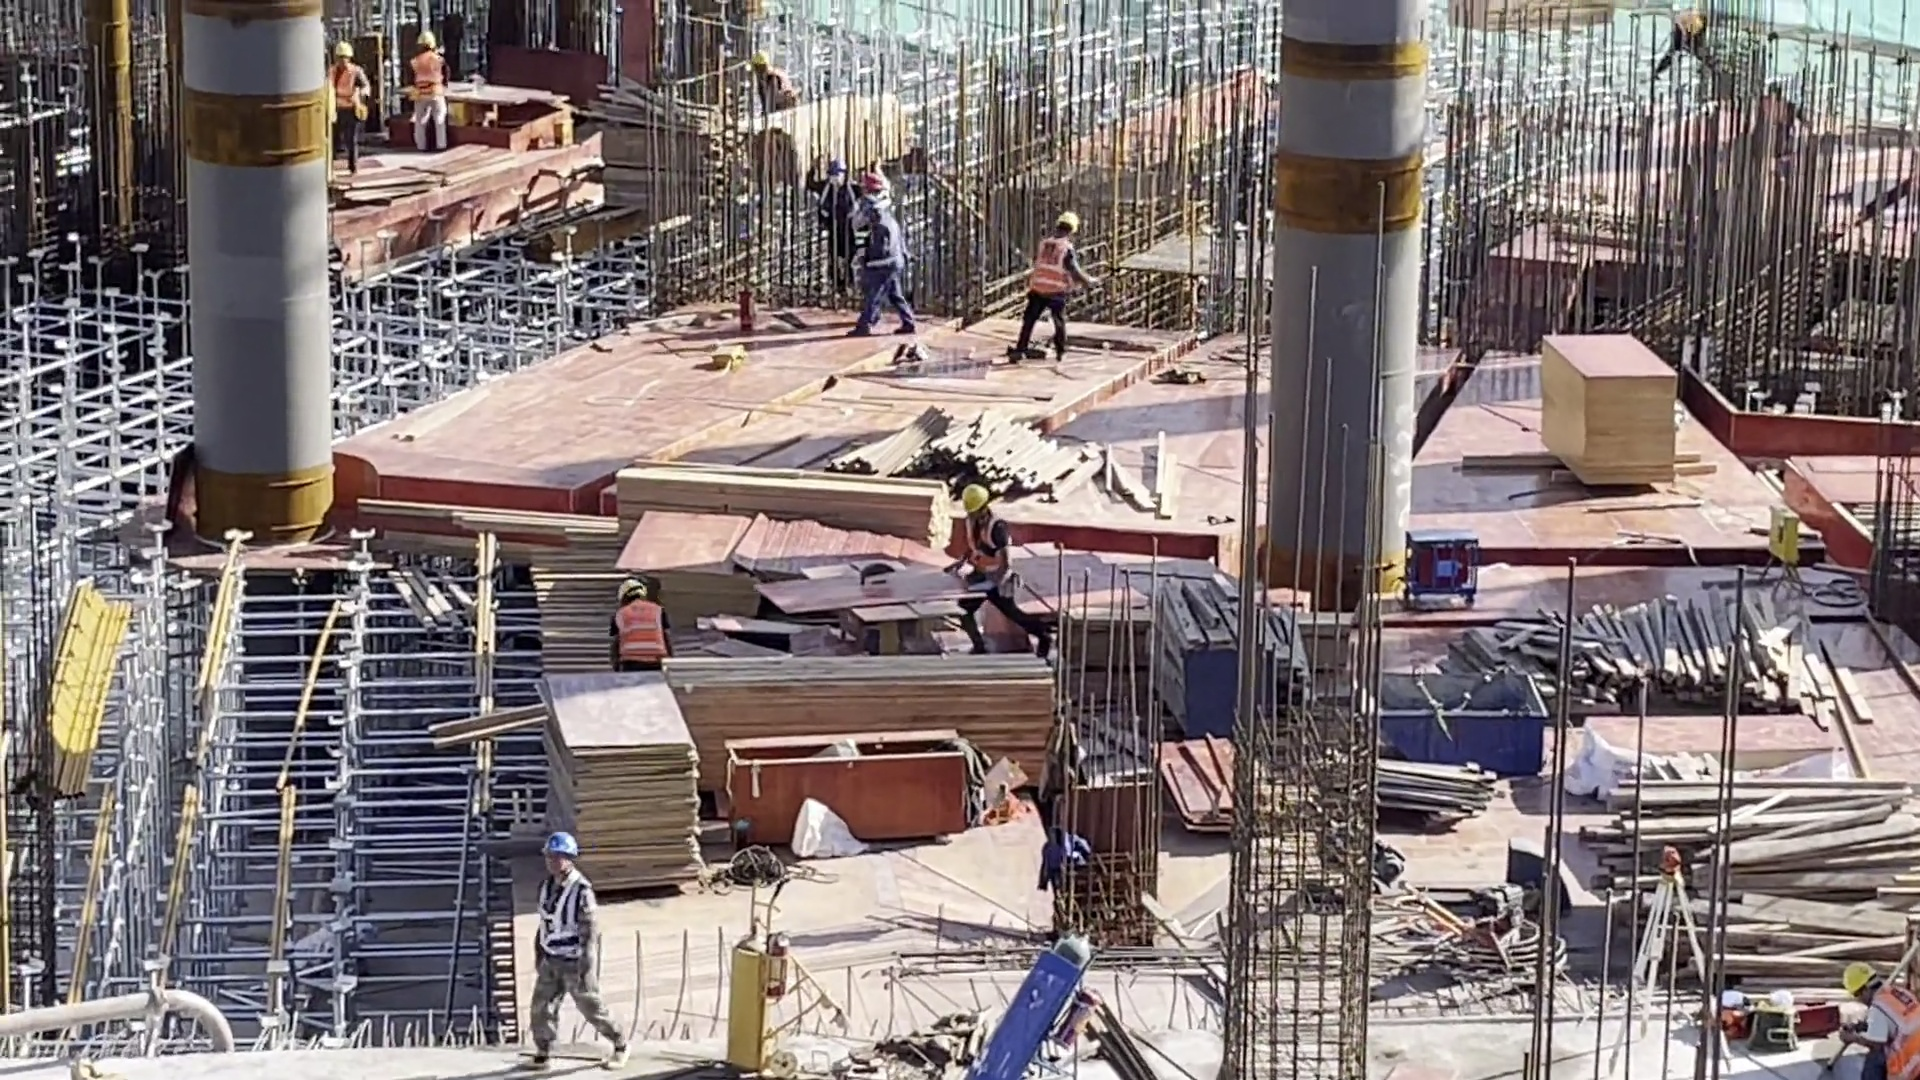board: (542, 672, 710, 891), (1540, 332, 1678, 487), (630, 511, 760, 631), (1156, 735, 1240, 840)
cutter: (801, 553, 980, 649), (444, 81, 575, 155)
ebox: (1760, 500, 1808, 604)
helmet: (1839, 959, 1876, 999), (958, 482, 990, 518), (538, 833, 579, 858), (614, 577, 649, 602), (861, 172, 886, 198), (412, 30, 439, 52), (328, 42, 357, 60), (824, 158, 846, 182)
hopper: (1375, 668, 1544, 778)
person: (528, 831, 631, 1068), (952, 482, 1056, 658), (1002, 208, 1099, 367), (849, 172, 916, 339), (1838, 959, 1920, 1080), (805, 150, 857, 299), (607, 575, 674, 673), (326, 41, 371, 175), (405, 32, 451, 153), (1657, 12, 1724, 75), (748, 49, 798, 120)
vest: (537, 870, 590, 964), (1874, 987, 1919, 1080), (859, 205, 905, 276), (616, 600, 665, 661), (965, 518, 1009, 586), (1025, 238, 1071, 296), (818, 182, 855, 249), (409, 54, 445, 103), (327, 63, 358, 115)
wood: (1593, 773, 1920, 1002), (1444, 599, 1852, 722), (837, 402, 1176, 518), (657, 651, 1055, 737), (619, 458, 951, 549), (598, 86, 743, 231), (747, 96, 916, 188), (1447, 1, 1616, 26)
